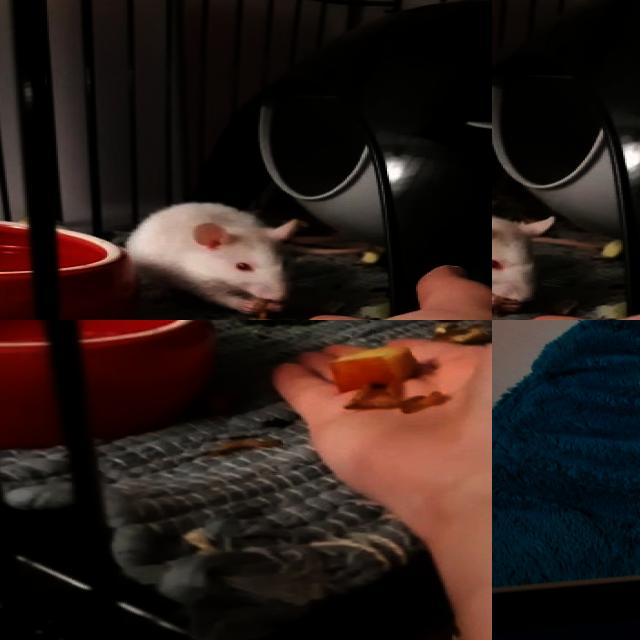rat: (121, 202, 300, 313), (492, 184, 555, 310)
